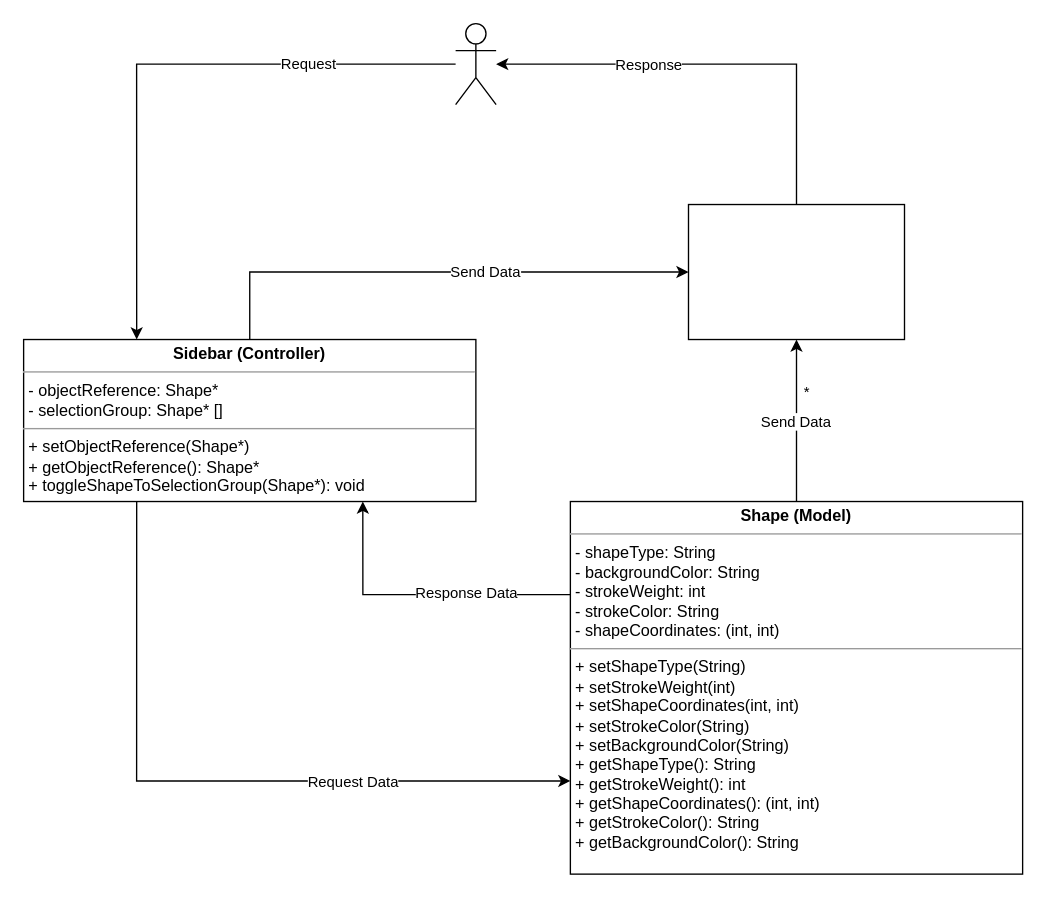
This 1046x898 diagram has some shape labels left out. Each missing label, with the centre of its shape:
Canvas (View) - shapeArray: Shape* [] - shapeCounter: int + getShapeCount(): int: [796,271]
User: [475,63]
